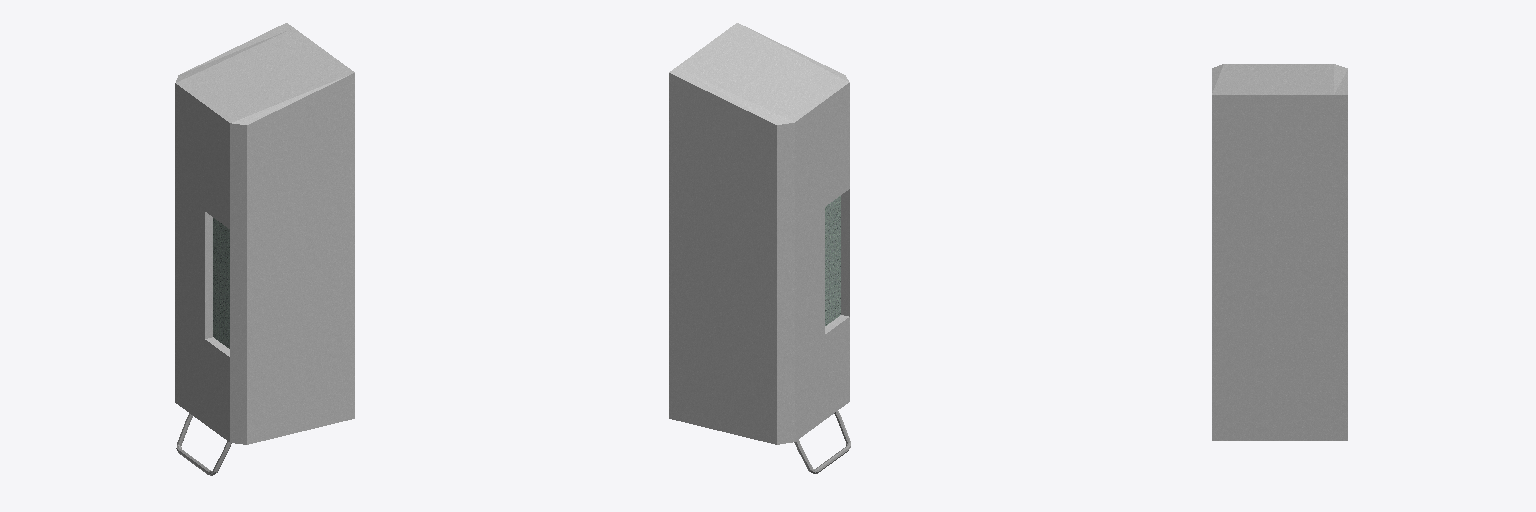
3 views of the same model, side by side, from view 1: azimuth 30°, elevation 25°; view 2: azimuth 150°, elevation 25°; view 3: azimuth 270°, elevation 25° (orthographic).
Visible parts, largest first — view 1: Cube.008_Cube.023, Cube.000, Cylinder.009_Cylinder.014; view 2: Cube.008_Cube.023, Cube.000, Cylinder.009_Cylinder.014; view 3: Cube.008_Cube.023.
Boxes of the visible parts, box(x1,y1,x2,y2) form: Cube.008_Cube.023: box(175, 23, 354, 444); Cube.000: box(213, 218, 229, 348); Cylinder.009_Cylinder.014: box(176, 413, 231, 475); Cube.008_Cube.023: box(669, 23, 849, 444); Cube.000: box(825, 196, 840, 325); Cylinder.009_Cylinder.014: box(794, 411, 850, 473); Cube.008_Cube.023: box(1212, 64, 1347, 440).
Size of the model in its own units: 0.7245 by 2.05 by 0.6619.
Materials: 3 (2 with a texture image).